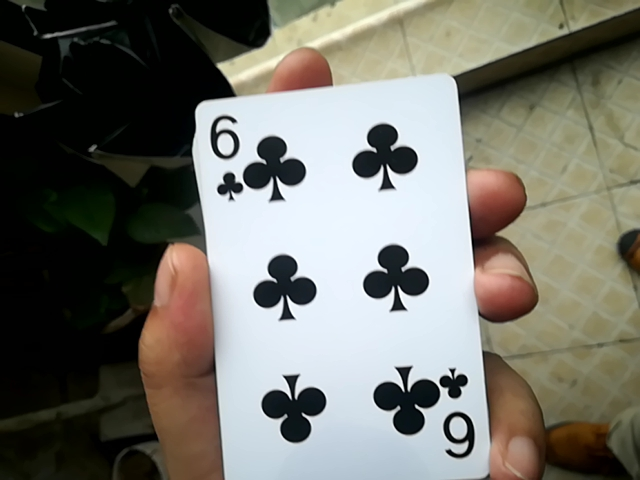mh 6: (183, 67, 487, 473)
